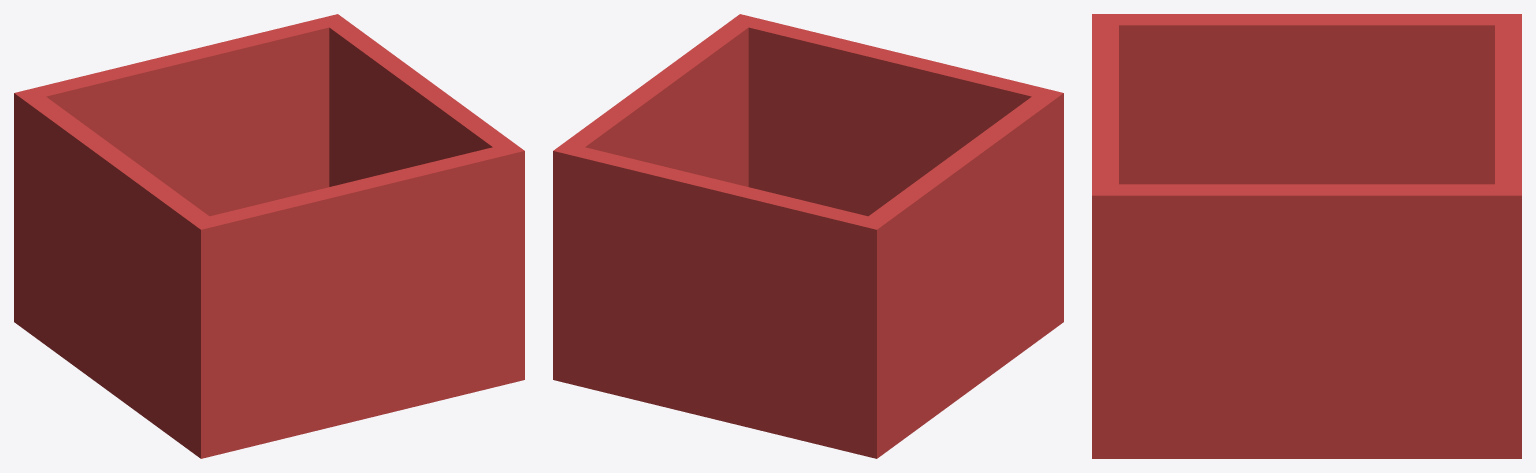
The model's file is room.fbx.
3 renders of one model, left to right at view 1: azimuth 30°, elevation 25°; view 2: azimuth 150°, elevation 25°; view 3: azimuth 270°, elevation 25°, orthographic. The views are drawn at different scales.
Visible parts, largest first — view 1: Cube, Cube.002, Cube.001, Cube.003, Cube.004; view 2: Cube, Cube.001, Cube.002, Cube.003, Cube.004; view 3: Cube, Cube.004, Cube.003, Cube.001, Cube.002.
Boxes of the visible parts, left/top/right/bottom form: Cube: left=14, top=14, right=524, bottom=458; Cube.002: left=298, top=168, right=416, bottom=411; Cube.001: left=122, top=40, right=241, bottom=216; Cube.003: left=76, top=133, right=158, bottom=391; Cube.004: left=380, top=59, right=461, bottom=174; Cube: left=553, top=14, right=1063, bottom=458; Cube.001: left=661, top=168, right=779, bottom=411; Cube.002: left=836, top=40, right=955, bottom=216; Cube.003: left=919, top=133, right=1001, bottom=391; Cube.004: left=616, top=59, right=697, bottom=174; Cube: left=1092, top=14, right=1521, bottom=458; Cube.004: left=1235, top=184, right=1378, bottom=434; Cube.003: left=1235, top=14, right=1378, bottom=184; Cube.001: left=1495, top=74, right=1521, bottom=134; Cube.002: left=1092, top=74, right=1118, bottom=134.
Size of the model in its own units: 200 by 135 by 200.
